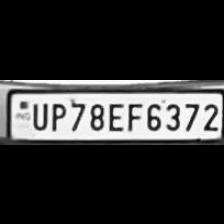2: (198, 99, 218, 131)
3: (163, 99, 181, 130)
6: (142, 99, 162, 130)
7: (66, 98, 86, 132), (180, 99, 198, 131)
8: (86, 99, 106, 131)
E: (104, 99, 124, 130)
F: (124, 99, 140, 130)
P: (47, 99, 67, 130)
U: (28, 99, 48, 130)
